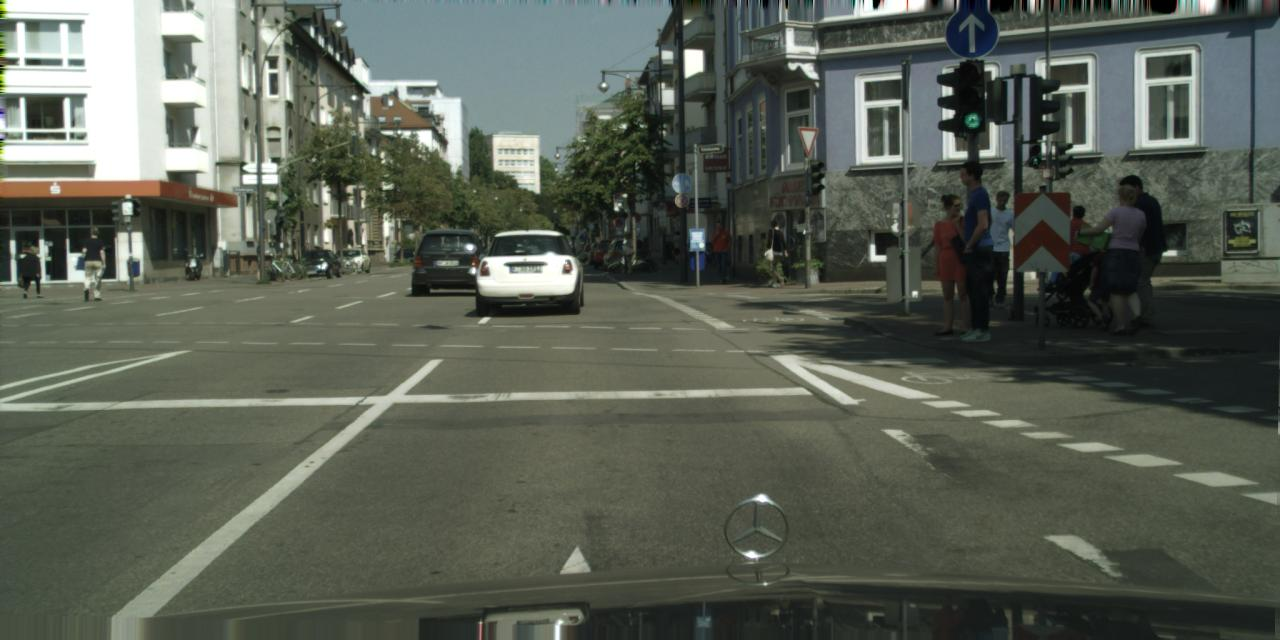ped: (937, 161, 1011, 342), (1100, 184, 1161, 334), (1106, 172, 1166, 318), (924, 194, 980, 334), (975, 190, 1023, 307), (79, 227, 108, 300), (762, 220, 789, 286), (708, 221, 733, 283), (22, 246, 42, 296), (618, 232, 636, 272), (669, 230, 682, 262)
